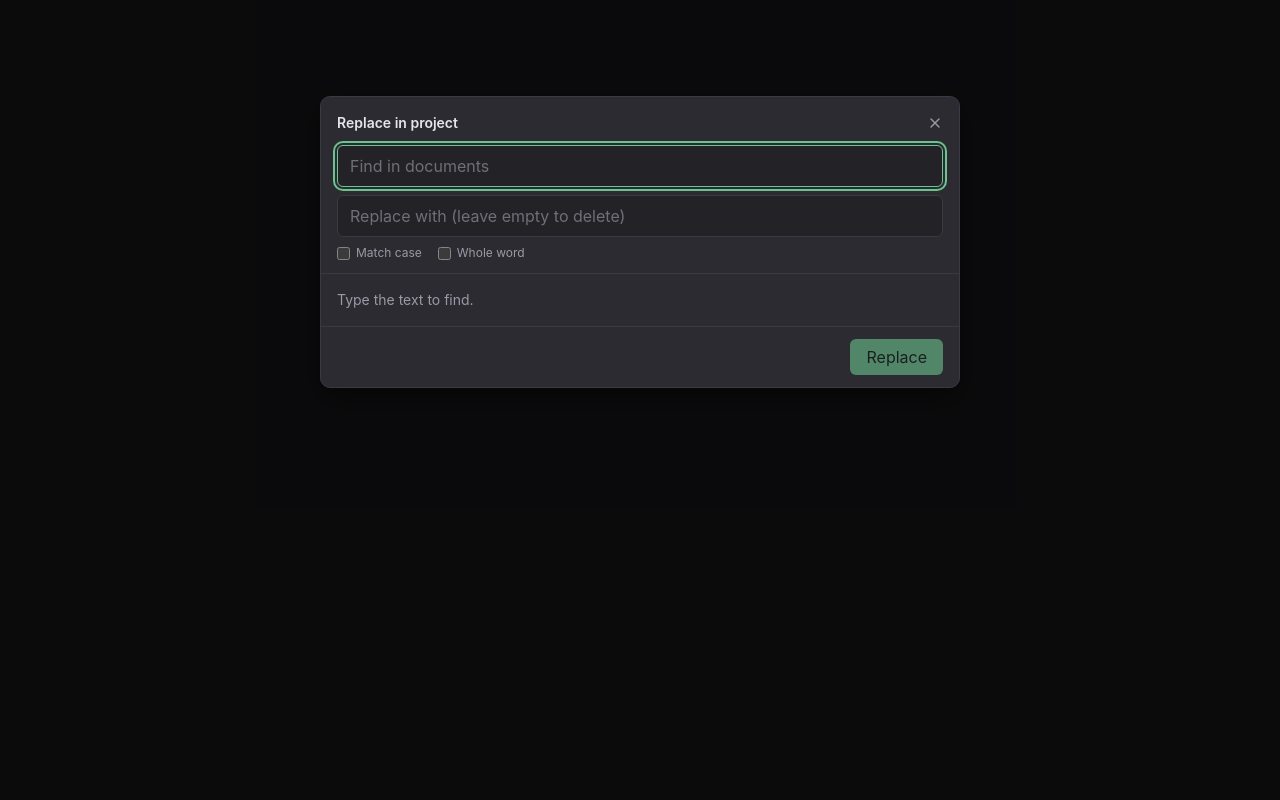
Scenario: ReplaceDialog (F-10.2) › previews one group per document with the change struck through and inserted
Step 1. Type "lantern" into the field labelled "Find" → (640, 166), box left=337, top=145, right=943, bottom=187
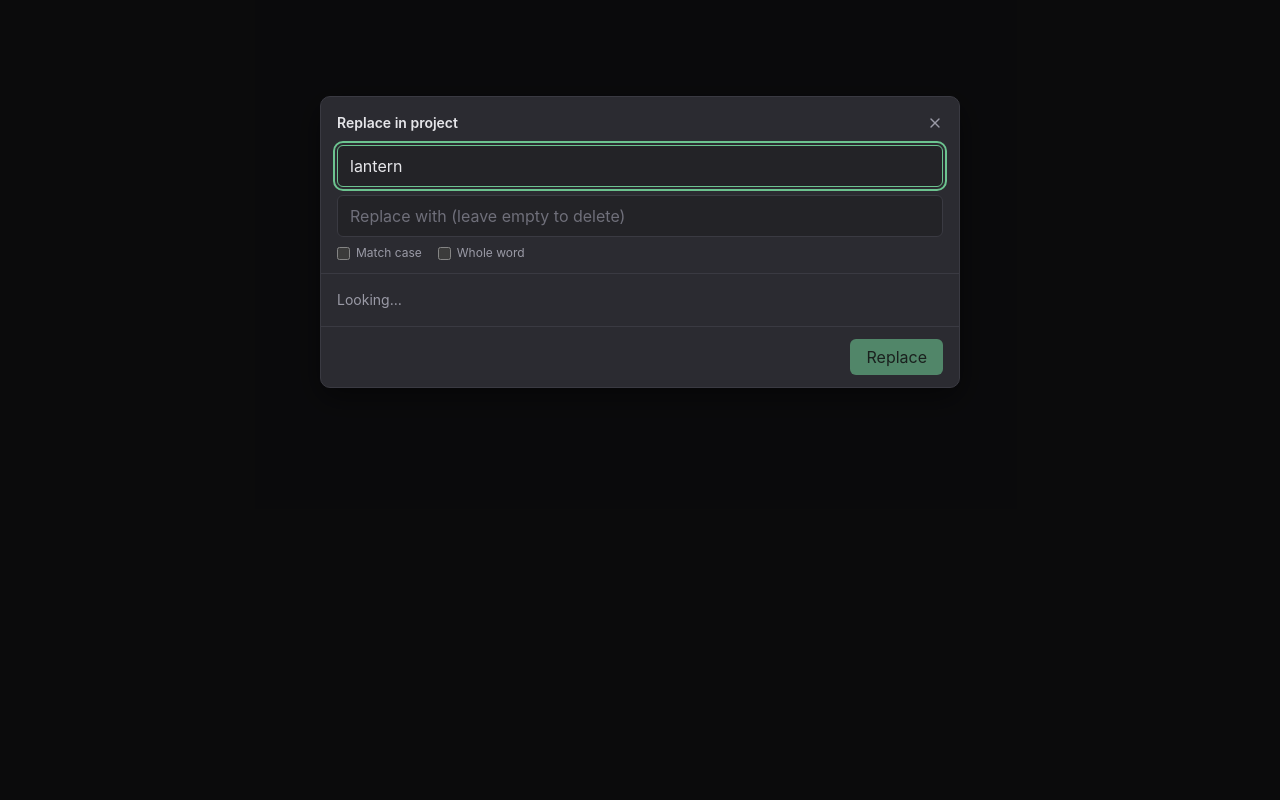
Step 2. Type "lamp" into the field labelled "Replace with" → (640, 216), box left=337, top=195, right=943, bottom=237
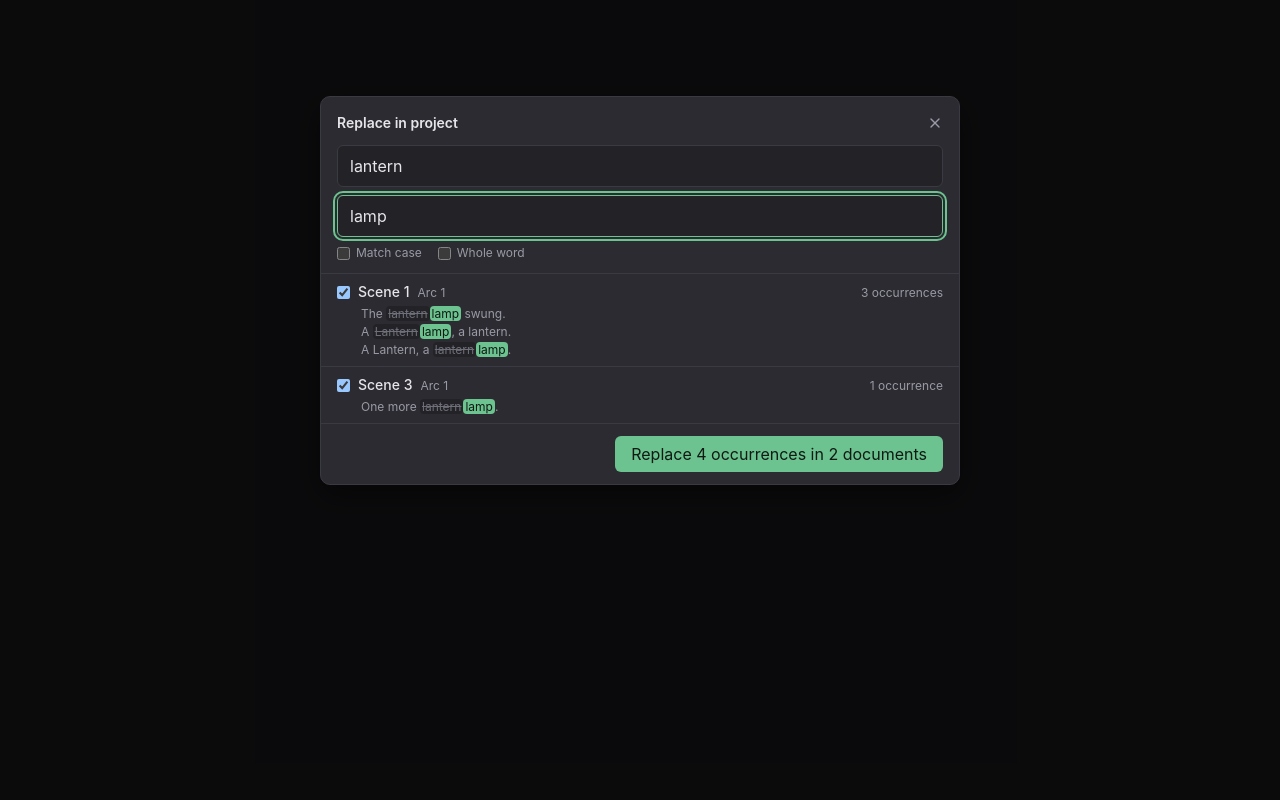
Result: the number of list items with test id "replace-document" is 2 at left=321, top=274, right=959, bottom=367; left=321, top=367, right=959, bottom=423
Result: the list item with test id "replace-document" shows "Scene 1" at left=358, top=283, right=410, bottom=300
Result: the list item with test id "replace-document" shows "3 occurrences" at left=861, top=285, right=943, bottom=300
